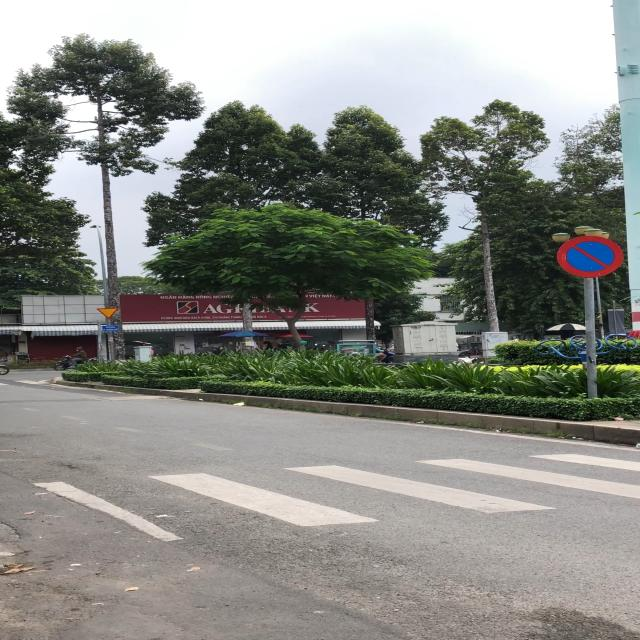Bien bao cam do xe: (554, 235, 625, 279)
Bien bao giao nhau voi duong uu tien: (95, 307, 121, 320)
